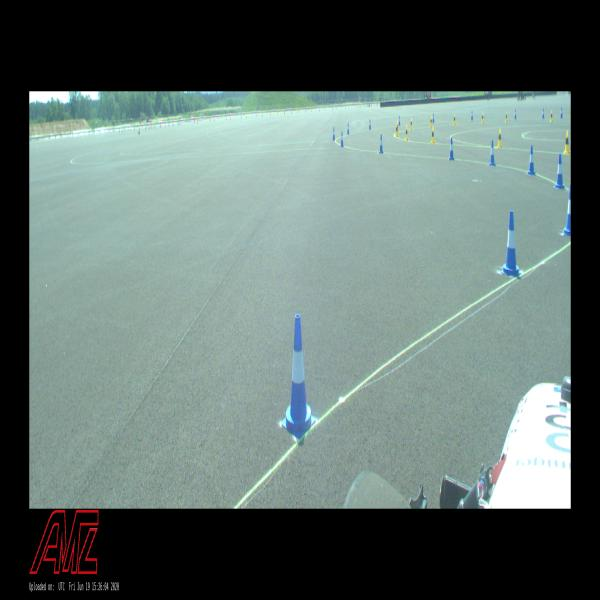blue_cone: (281, 314, 316, 438), (501, 211, 522, 277), (554, 153, 566, 189), (563, 185, 571, 236), (528, 145, 536, 175), (489, 140, 496, 166), (448, 137, 455, 160), (379, 134, 383, 153), (340, 131, 344, 147), (332, 127, 335, 140), (347, 123, 350, 134), (398, 115, 401, 126), (514, 109, 517, 119), (542, 108, 545, 118), (560, 108, 563, 118), (432, 113, 435, 122), (369, 119, 371, 130), (471, 111, 473, 120)
yellow_cone: (564, 131, 570, 155), (497, 129, 502, 148), (431, 126, 435, 144), (405, 125, 408, 140), (395, 123, 398, 137), (550, 110, 553, 123), (453, 114, 456, 125), (481, 112, 484, 123), (505, 112, 508, 122), (397, 121, 399, 133), (410, 118, 412, 130), (430, 116, 432, 127)
